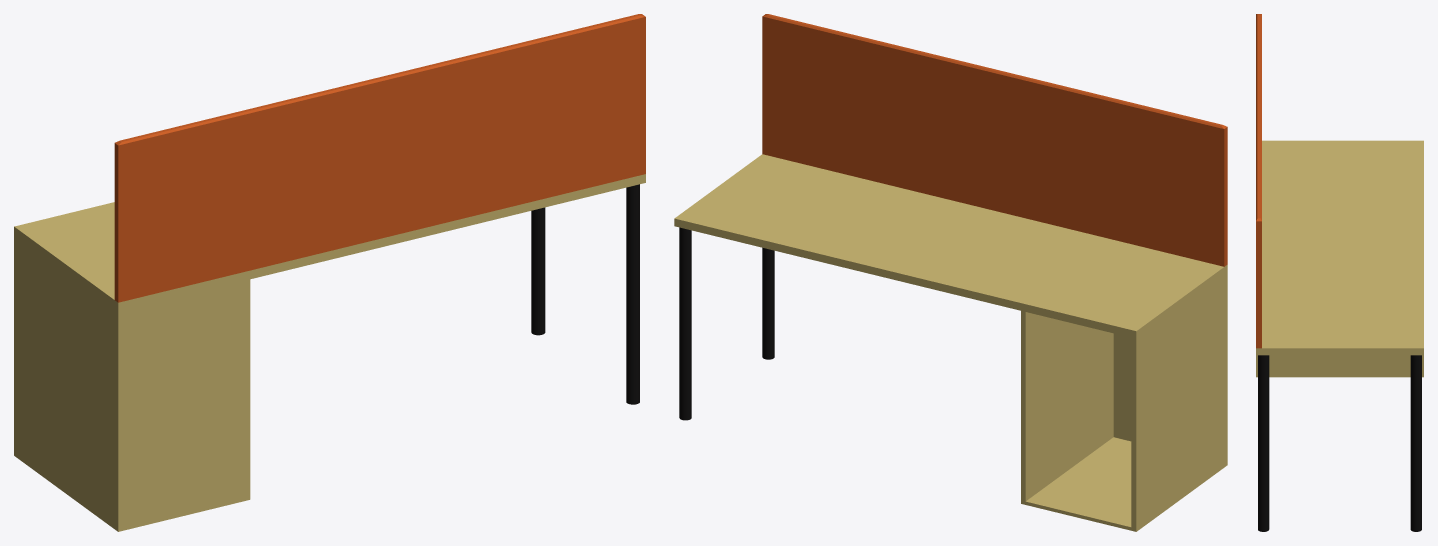
File: OfficeDesk.FBX
The picture shows the model from 3 angles, left to right: view 1: azimuth 30°, elevation 25°; view 2: azimuth 150°, elevation 25°; view 3: azimuth 270°, elevation 25°; orthographic projection. The views are drawn at different scales.
Visible parts, largest first — view 1: PanelBoard, DeskBase, DeskLegs; view 2: DeskBase, PanelBoard, DeskLegs; view 3: DeskBase, DeskLegs, PanelBoard.
Boxes of the visible parts, bbox=[...] form: PanelBoard: bbox=[114, 14, 645, 302]; DeskBase: bbox=[14, 174, 645, 531]; DeskLegs: bbox=[531, 184, 639, 404]; DeskBase: bbox=[674, 154, 1227, 531]; PanelBoard: bbox=[762, 14, 1227, 266]; DeskLegs: bbox=[679, 227, 774, 420]; DeskBase: bbox=[1256, 140, 1423, 377]; DeskLegs: bbox=[1258, 355, 1421, 531]; PanelBoard: bbox=[1256, 14, 1261, 348].
Size of the model in its own units: 172 by 121 by 58.81.
